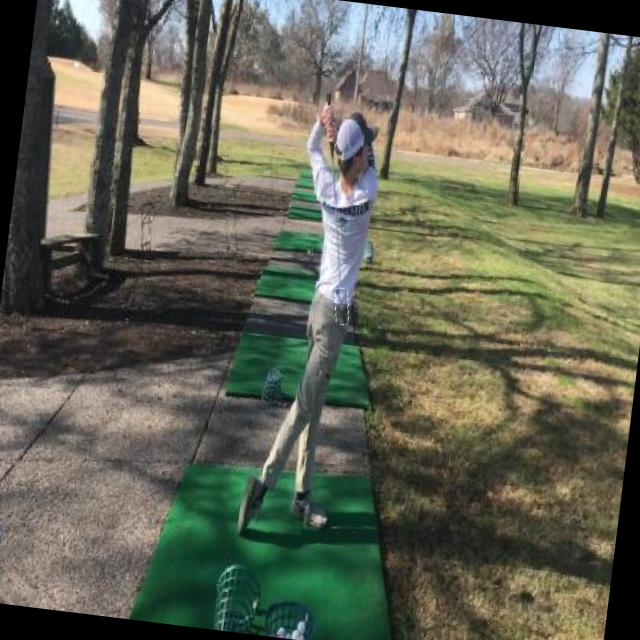club head: (333, 288, 351, 325)
